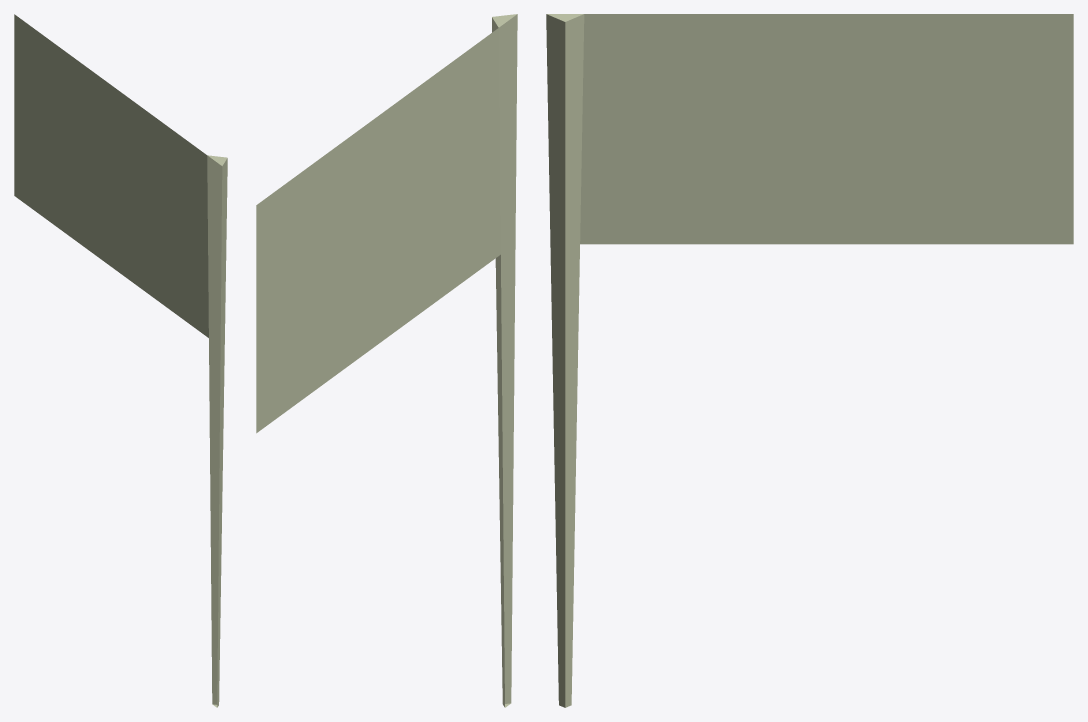
The model's file is flagtest3b.obj.
3 renders of one model, left to right at view 1: azimuth 30°, elevation 25°; view 2: azimuth 150°, elevation 25°; view 3: azimuth 270°, elevation 25°, orthographic. The views are drawn at different scales.
Visible parts, largest first — view 1: object_0; view 2: object_0; view 3: object_0.
Boxes of the visible parts, x1,y1,x2,y2 form: object_0: [14, 14, 227, 707]; object_0: [256, 14, 517, 707]; object_0: [546, 14, 1073, 707].
Size of the model in its own units: 0.075 by 3 by 2.08.
